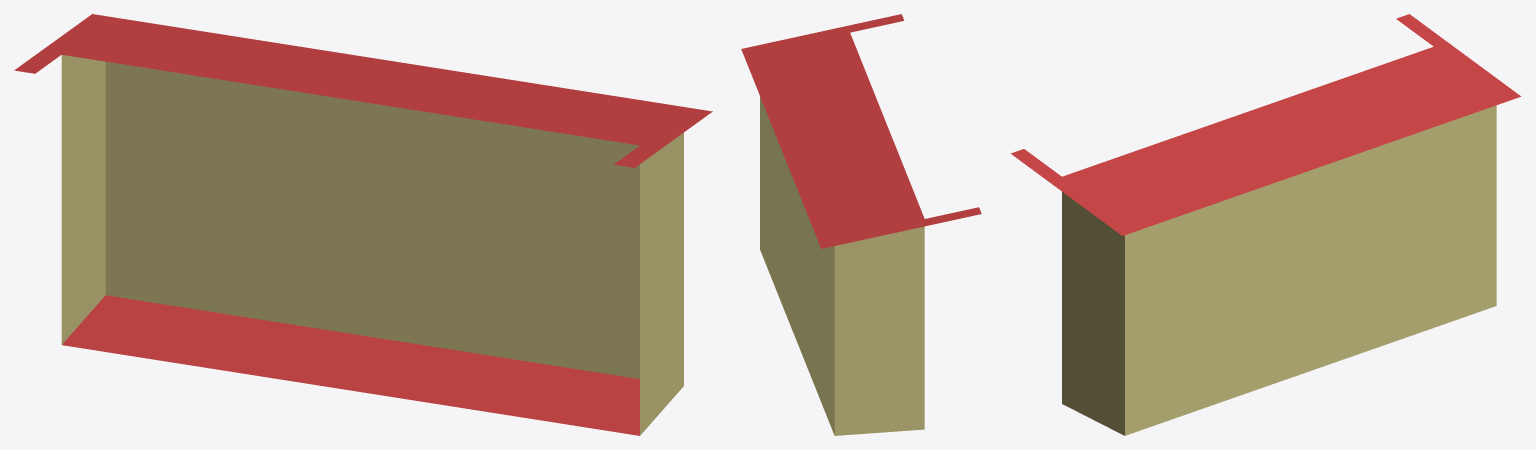
3 views of the same model, side by side, from view 1: azimuth 30°, elevation 25°; view 2: azimuth 150°, elevation 25°; view 3: azimuth 270°, elevation 25° (orthographic). The views are drawn at different scales.
Size of the model in its own units: 13.18 by 14.47 by 7.37.
